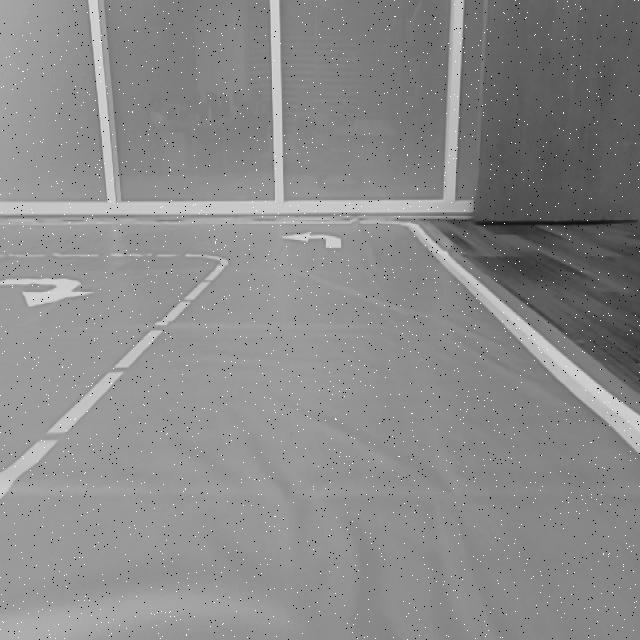left_lane: (0, 266, 226, 500)
right_lane: (408, 228, 640, 456)
